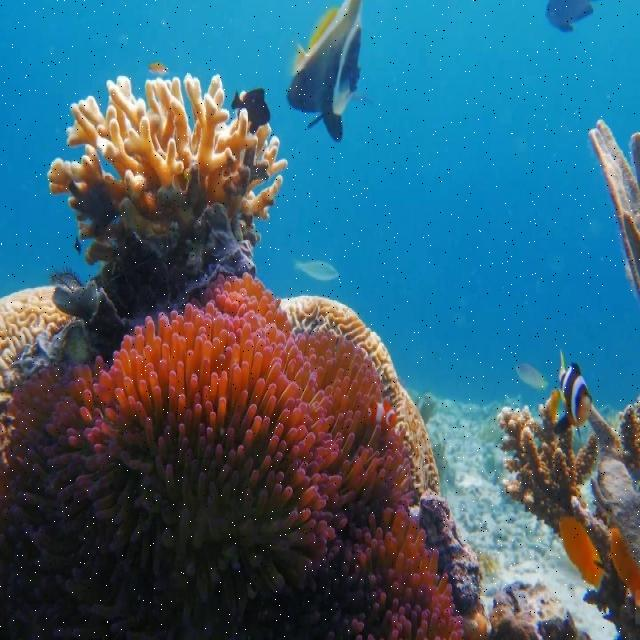fish: (289, 2, 362, 142), (560, 517, 606, 586), (558, 349, 592, 432), (611, 530, 639, 603), (233, 87, 273, 132), (545, 1, 593, 36), (290, 254, 339, 283), (512, 359, 552, 391)
reefs: (0, 275, 462, 639), (50, 71, 287, 354), (279, 295, 440, 495), (496, 391, 639, 569), (0, 284, 72, 397)
sea-floor: (419, 492, 594, 639)
